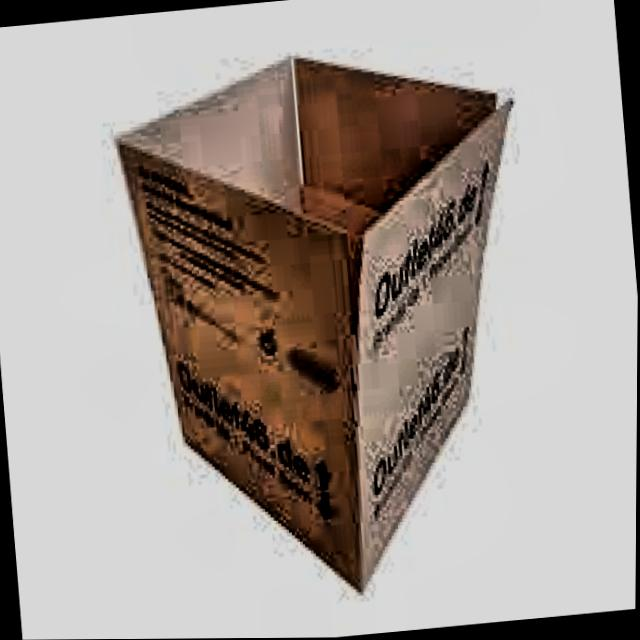Cardbox: (109, 23, 573, 632)
